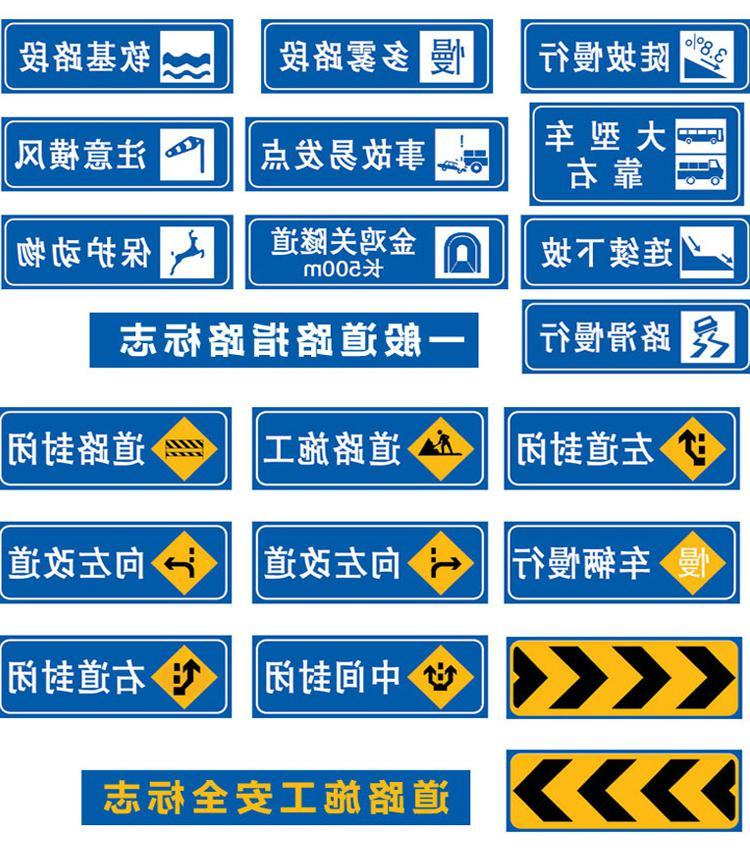sign: (531, 103, 740, 201), (253, 636, 488, 717), (257, 407, 486, 487), (507, 638, 741, 716), (253, 521, 482, 600), (507, 753, 741, 830), (1, 408, 231, 486), (507, 410, 739, 487), (1, 525, 228, 603), (249, 120, 504, 189), (508, 524, 739, 600), (248, 219, 504, 287), (1, 640, 229, 714), (525, 21, 749, 93), (4, 20, 230, 90), (4, 120, 231, 189), (266, 21, 489, 91), (523, 218, 748, 287), (2, 218, 229, 286), (527, 304, 748, 369)
